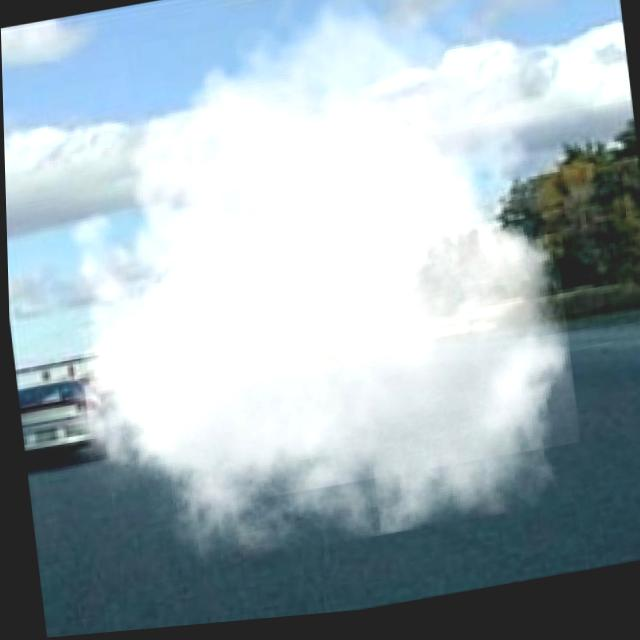no_helmet: (8, 0, 583, 589)
